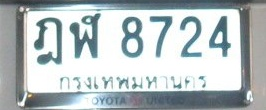txt11: (32, 16, 64, 67)
txt37: (68, 12, 102, 60)
